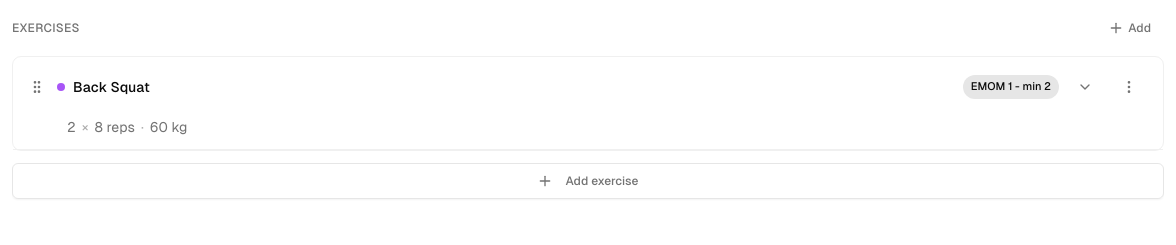
Test: ExerciseTable drag handle › allows linked exercise rows to move or clear their block assignment
Step 1. Click the button with test id "exercise-row-block-assignment" → (1011, 87), box [963,75,1059,99]
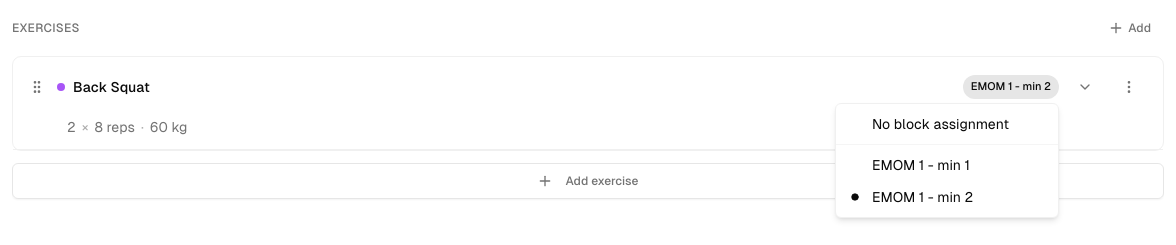
Step 2. Click the menu item "EMOM 1 - min 1" → (921, 165), box [872,157,970,173]
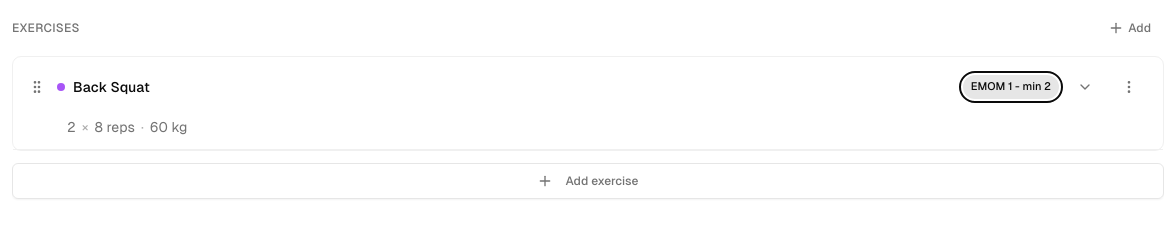
Step 3. Click the button with test id "exercise-row-block-assignment" → (1011, 87), box [963,75,1059,99]
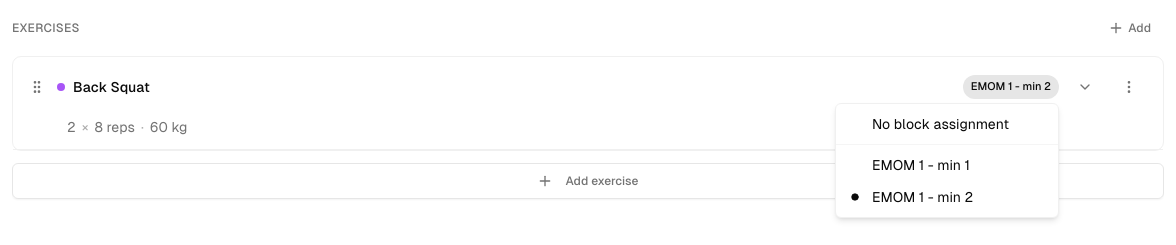
Step 4. Click the menu item "No block assignment" → (940, 124), box [872,116,1009,132]
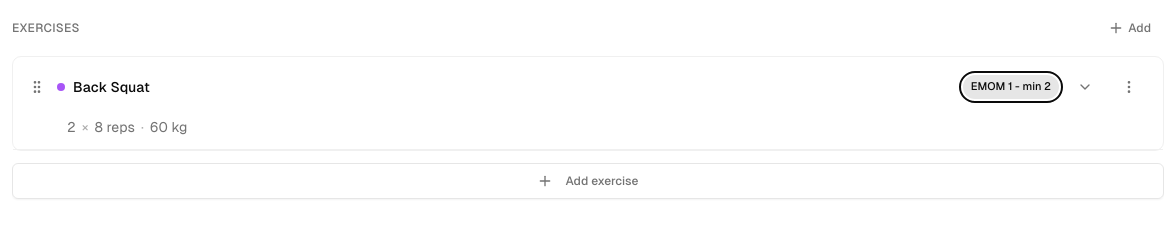
Step 5. Click the button with test id "exercise-row-actions" → (1129, 87), box [1111,69,1147,105]
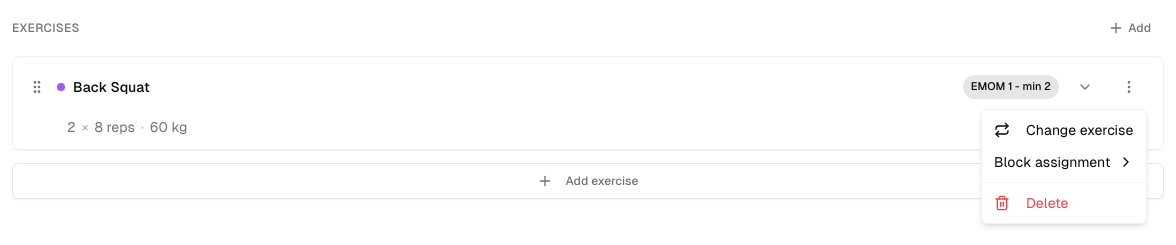
Now the menu item "Block assignment" is shown, box [994,154,1134,170]
